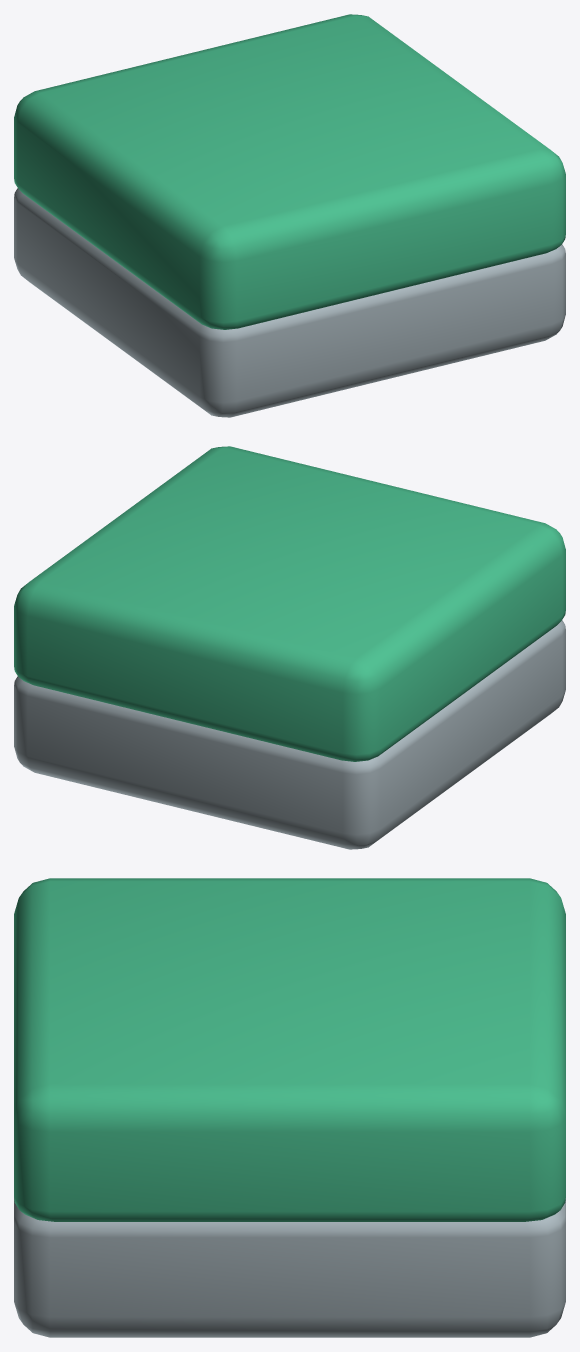
File: tileLow_teamGreen.gltf.glb
3 views of the same model, one above another, from view 1: azimuth 30°, elevation 25°; view 2: azimuth 150°, elevation 25°; view 3: azimuth 270°, elevation 25° (orthographic). The views are drawn at different scales.
Parts seen in each view (by area): view 1: tileLow_forest; view 2: tileLow_forest; view 3: tileLow_forest.
Part boxes in pixels (x1,y1,x2,y2): tileLow_forest: [14, 14, 565, 417]; tileLow_forest: [14, 446, 565, 849]; tileLow_forest: [14, 878, 565, 1337].
Size of the model in its own units: 2 by 1 by 2.
